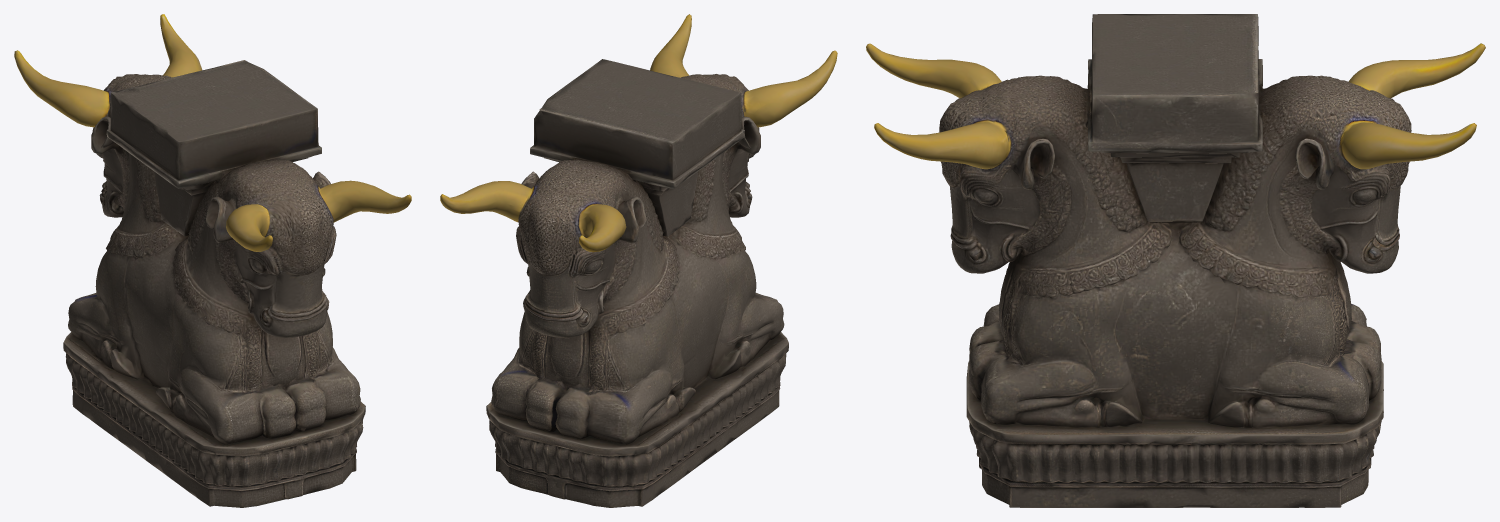
Rendered from hyp-3.glb.
3 views of the same model, side by side, from view 1: azimuth 30°, elevation 25°; view 2: azimuth 150°, elevation 25°; view 3: azimuth 270°, elevation 25° (orthographic). The views are drawn at different scales.
Parts seen in each view (by area): view 1: tripo_node_83188c24-f9df-4af0-b46f-f7cbafd5be45; view 2: tripo_node_83188c24-f9df-4af0-b46f-f7cbafd5be45; view 3: tripo_node_83188c24-f9df-4af0-b46f-f7cbafd5be45.
Boxes of the visible parts, x1=… form: tripo_node_83188c24-f9df-4af0-b46f-f7cbafd5be45: x1=14, y1=14, x2=411, y2=507; tripo_node_83188c24-f9df-4af0-b46f-f7cbafd5be45: x1=440, y1=14, x2=837, y2=507; tripo_node_83188c24-f9df-4af0-b46f-f7cbafd5be45: x1=866, y1=14, x2=1485, y2=507.
Bounding box in the file's own units: 0.3762 × 0.7299 × 1.
Materials: 1 (1 with a texture image).
